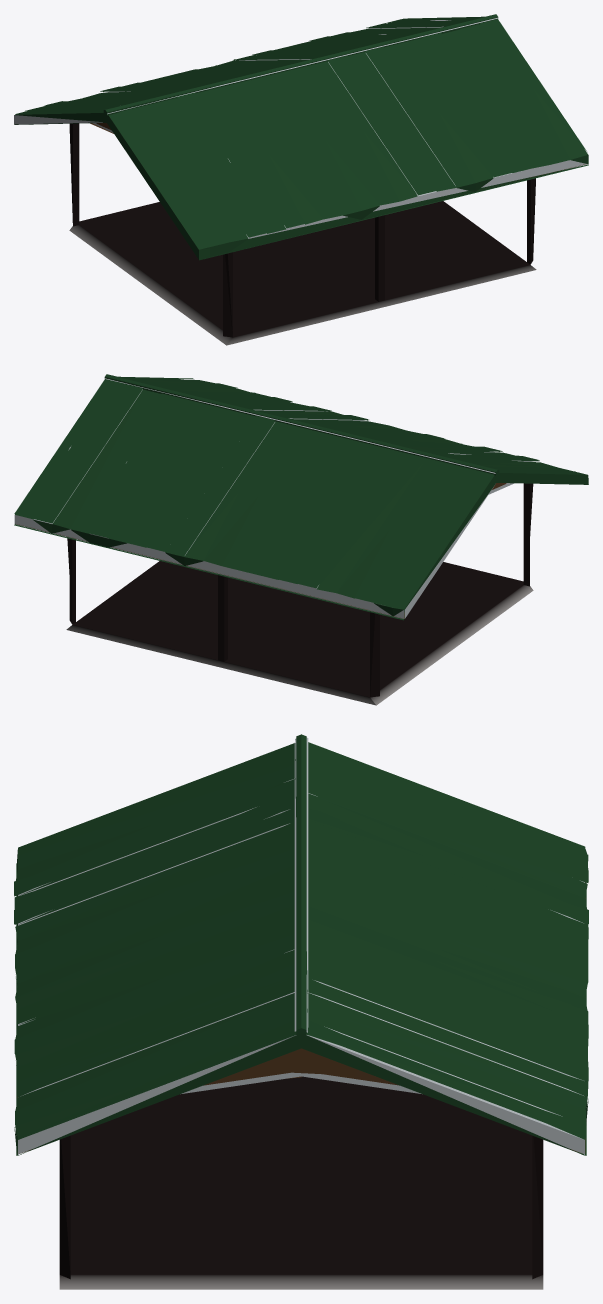
File: rest-shelter.zfix-v14.lod1.glb
The picture shows the model from 3 angles, top to bottom: view 1: azimuth 30°, elevation 25°; view 2: azimuth 150°, elevation 25°; view 3: azimuth 270°, elevation 25°; orthographic projection. The views are drawn at different scales.
Visible parts, largest first — view 1: Material2; view 2: Material2; view 3: Material2.
Part boxes in pixels (x1=…): Material2: x1=14, y1=14, x2=588, y2=345; Material2: x1=14, y1=374, x2=588, y2=705; Material2: x1=14, y1=734, x2=588, y2=1289.
Bounding box in the file's own units: 10.35 × 4.77 × 8.56.
